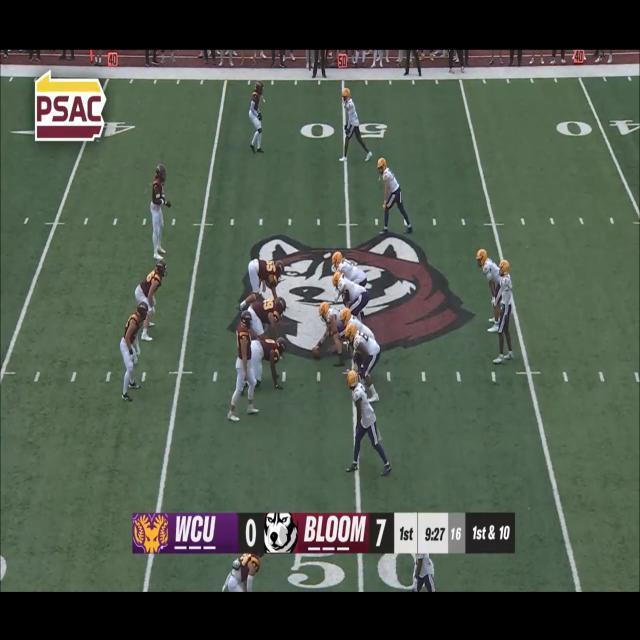football: (311, 347, 321, 361)
